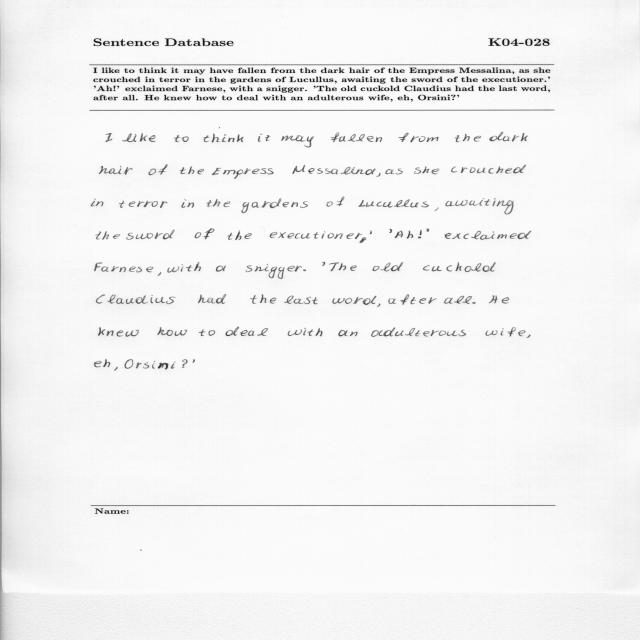word: (270, 231, 366, 243), (241, 199, 308, 214), (371, 327, 466, 337), (96, 229, 175, 240), (245, 264, 302, 279), (292, 165, 376, 175), (97, 295, 176, 305), (423, 262, 496, 272), (453, 231, 532, 240), (212, 168, 274, 179), (451, 165, 526, 174), (358, 199, 429, 208), (95, 263, 153, 273), (125, 359, 176, 370), (388, 295, 437, 305), (398, 133, 439, 143), (98, 327, 139, 337), (445, 198, 496, 206), (486, 327, 526, 337), (281, 136, 314, 148), (333, 296, 377, 305), (489, 132, 528, 142), (225, 327, 268, 336), (167, 262, 201, 273), (203, 134, 244, 143), (119, 201, 168, 208), (331, 132, 365, 142), (122, 133, 156, 142), (99, 166, 133, 175), (288, 328, 323, 336), (284, 296, 318, 304), (373, 263, 403, 272), (157, 327, 187, 336), (329, 263, 357, 272), (198, 295, 226, 304), (227, 230, 252, 240), (497, 201, 514, 215), (250, 295, 276, 304), (444, 296, 472, 304), (455, 134, 481, 142), (414, 167, 439, 175), (195, 229, 215, 239), (180, 167, 204, 175), (207, 199, 231, 207), (149, 165, 168, 175), (327, 197, 345, 207), (489, 295, 509, 304), (338, 330, 358, 337), (95, 360, 110, 368), (181, 199, 194, 208), (418, 229, 429, 239), (385, 169, 403, 175), (174, 135, 189, 142), (91, 199, 104, 207), (258, 134, 270, 142), (199, 330, 215, 336), (367, 136, 382, 142), (216, 266, 226, 272), (395, 231, 403, 238), (106, 133, 112, 142), (182, 359, 188, 368), (407, 231, 413, 239), (445, 233, 452, 239), (377, 173, 381, 177), (435, 207, 439, 211), (158, 272, 162, 276), (527, 334, 531, 338), (389, 229, 392, 233), (322, 262, 325, 266), (377, 303, 380, 307), (114, 367, 117, 371), (192, 359, 195, 363), (369, 231, 372, 234), (472, 302, 476, 304), (303, 270, 306, 272)
